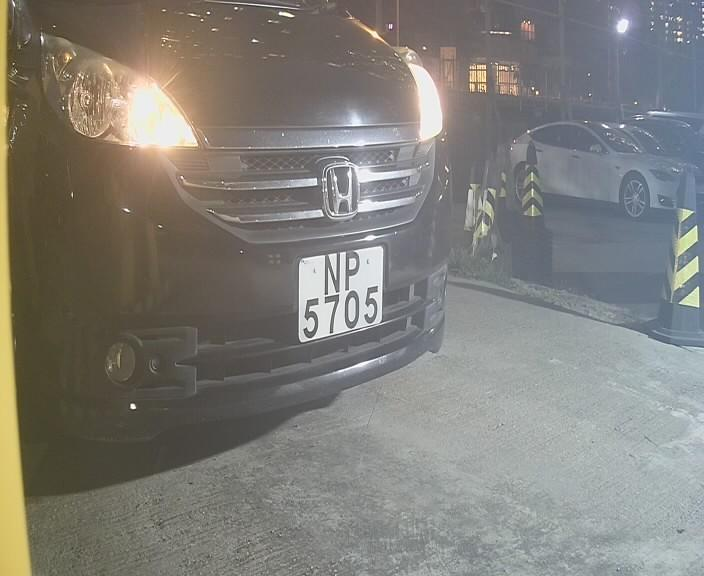Car: (16, 26, 557, 453)
License Plate: (287, 232, 390, 353)
